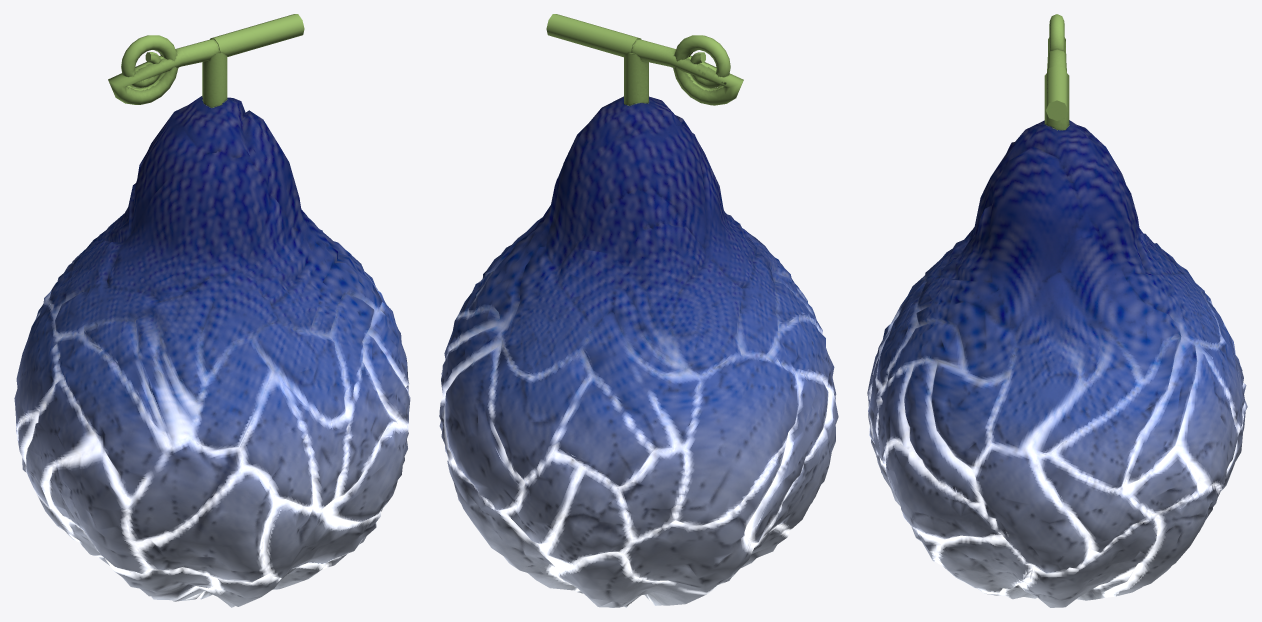
Rendered from quake.fbx.
The picture shows the model from 3 angles, left to right: view 1: azimuth 30°, elevation 25°; view 2: azimuth 150°, elevation 25°; view 3: azimuth 270°, elevation 25°; orthographic projection. The views are drawn at different scales.
Visible parts, largest first — view 1: QuakeFruit; view 2: QuakeFruit; view 3: QuakeFruit.
Boxes of the visible parts, box(x1,y1,x2,y2) form: QuakeFruit: box(14, 14, 410, 607); QuakeFruit: box(439, 14, 838, 607); QuakeFruit: box(867, 14, 1247, 607).
Bounding box in the file's own units: 1.85 × 2.94 × 1.85.
